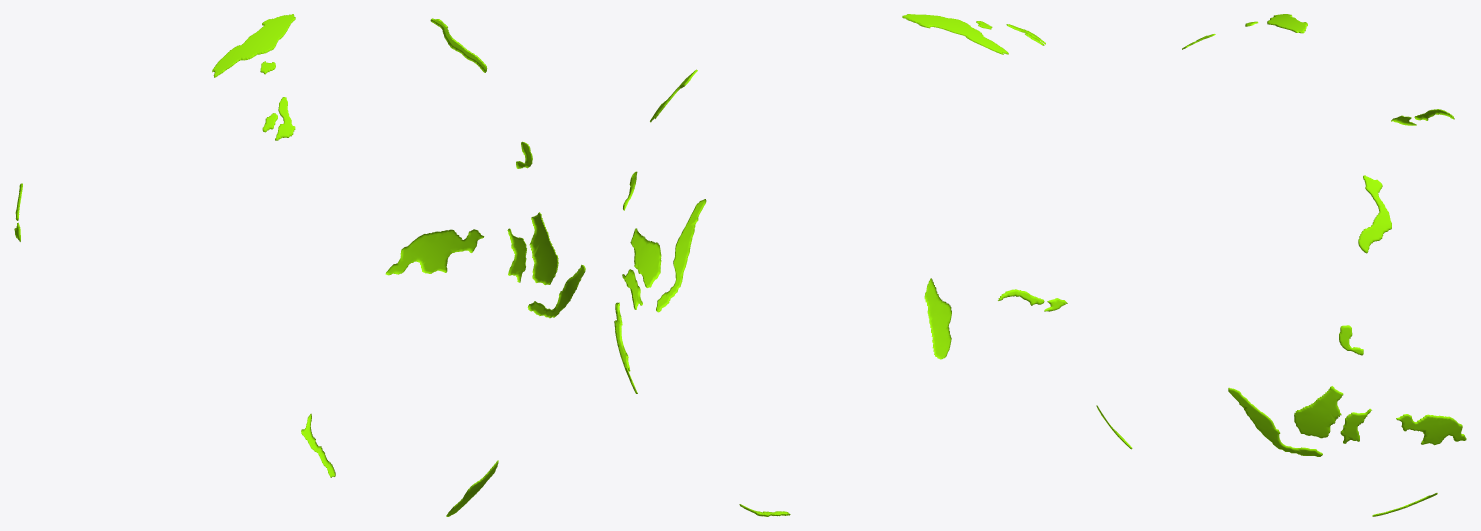
File: Other Area.fbx
3 renders of one model, left to right at view 1: azimuth 30°, elevation 25°; view 2: azimuth 150°, elevation 25°; view 3: azimuth 270°, elevation 25°, orthographic. The views are drawn at different scales.
Parts seen in each view (by area): view 1: Random; view 2: Random; view 3: Random.
Boxes of the visible parts, <box> form: Random: <box>14,14,585,516</box>; Random: <box>614,14,1067,516</box>; Random: <box>1096,14,1466,516</box>.
Bounding box in the file's own units: 11408 × 11468 × 8539.
